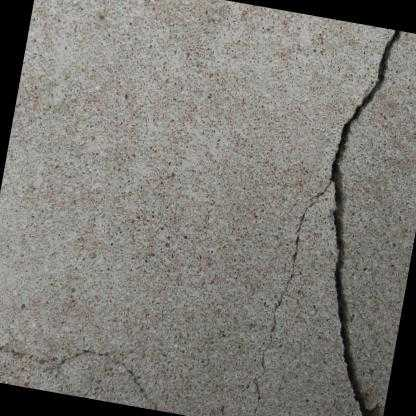crack: (328, 29, 403, 416)
